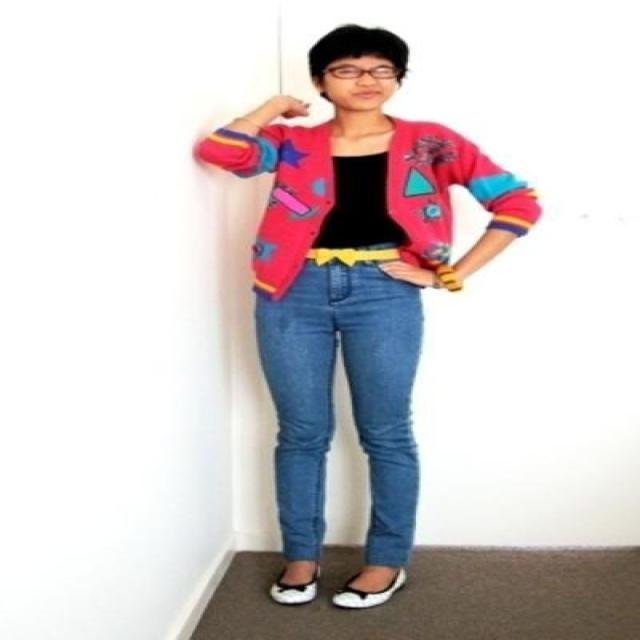jacket: (194, 109, 539, 293)
pants: (254, 257, 424, 575)
shirt: (312, 153, 402, 250)
shoe: (272, 569, 403, 606)
